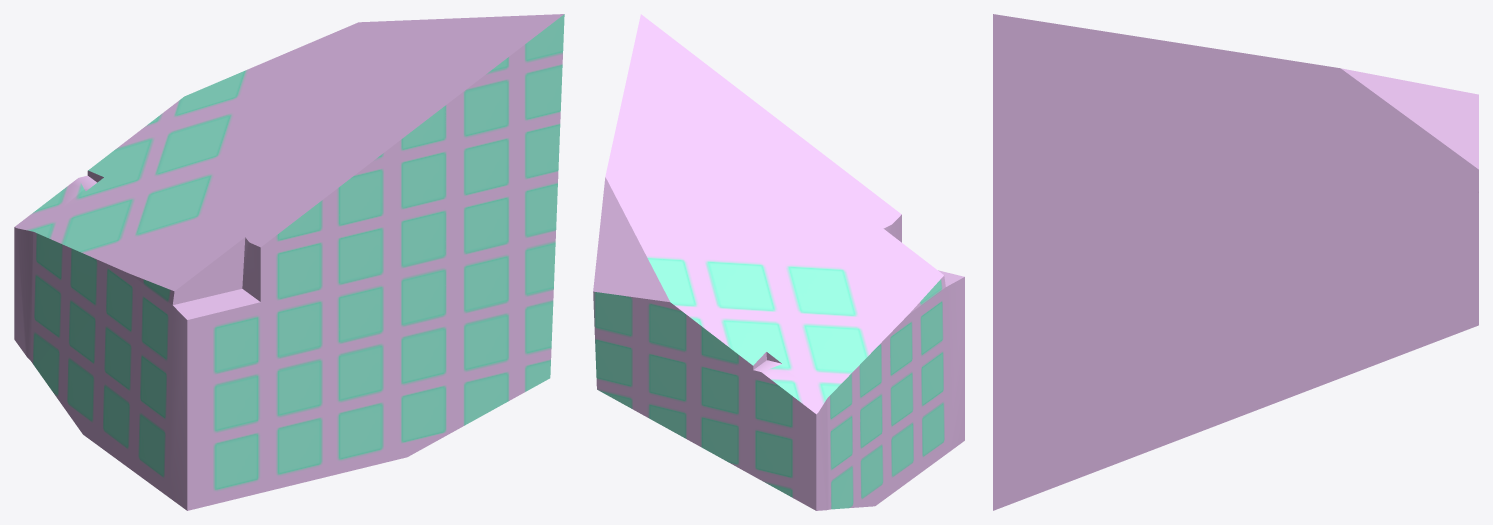
The model's file is r1Shard3.fbx.
The picture shows the model from 3 angles, left to right: view 1: azimuth 30°, elevation 25°; view 2: azimuth 150°, elevation 25°; view 3: azimuth 270°, elevation 25°; orthographic projection. The views are drawn at different scales.
Visible parts, largest first — view 1: shard76; view 2: shard76; view 3: shard76.
Part boxes in pixels (bbox=[...]): shard76: bbox=[14, 14, 564, 510]; shard76: bbox=[593, 14, 964, 510]; shard76: bbox=[993, 14, 1478, 510].
Bounding box in the file's own units: 0.1119 × 0.1147 × 0.0888.
1 material, 1 textured.
